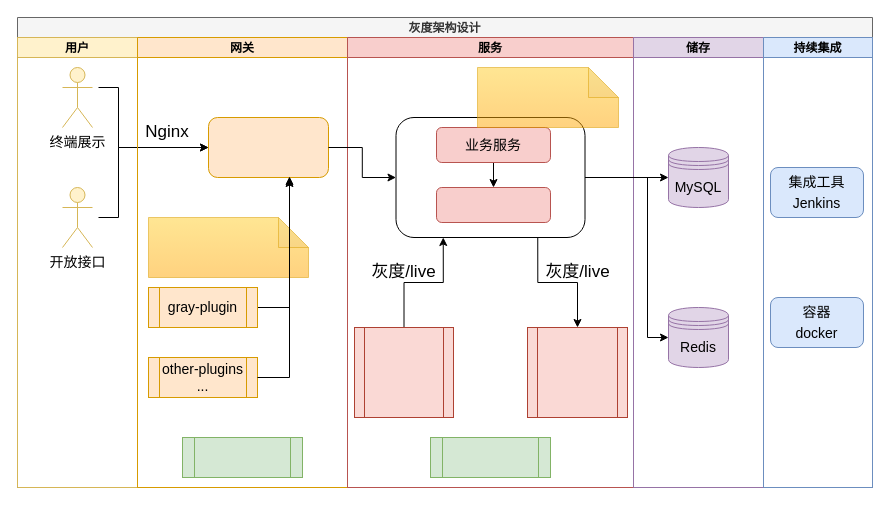
Image size: 890x505. Some labels were removed from this diagram. Each missing label, with the centre of its shape:
"Apollo 配置管理" goes at [404,372].
"Kong" goes at [268,147].
"Nacos 服务注册" goes at [577,372].
"命令行传入灰度参数以区分服务以灰度方式部署或正常方式部署" goes at [547,97].
"基础服务" goes at [493,204].
"日志记录" goes at [490,457].
"流量控制" goes at [242,457].
"灰度网关插件根据配置的ip白名单转发请求至灰度/live服务" goes at [228,247].
